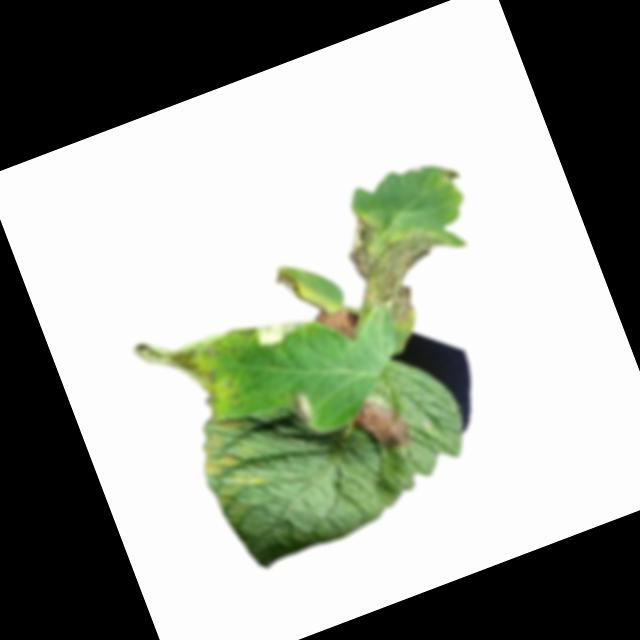Late_blight: (335, 191, 466, 334), (129, 322, 231, 438), (347, 387, 416, 461), (310, 298, 366, 353), (251, 309, 306, 353), (272, 266, 307, 311), (287, 389, 317, 428), (436, 163, 466, 191)
